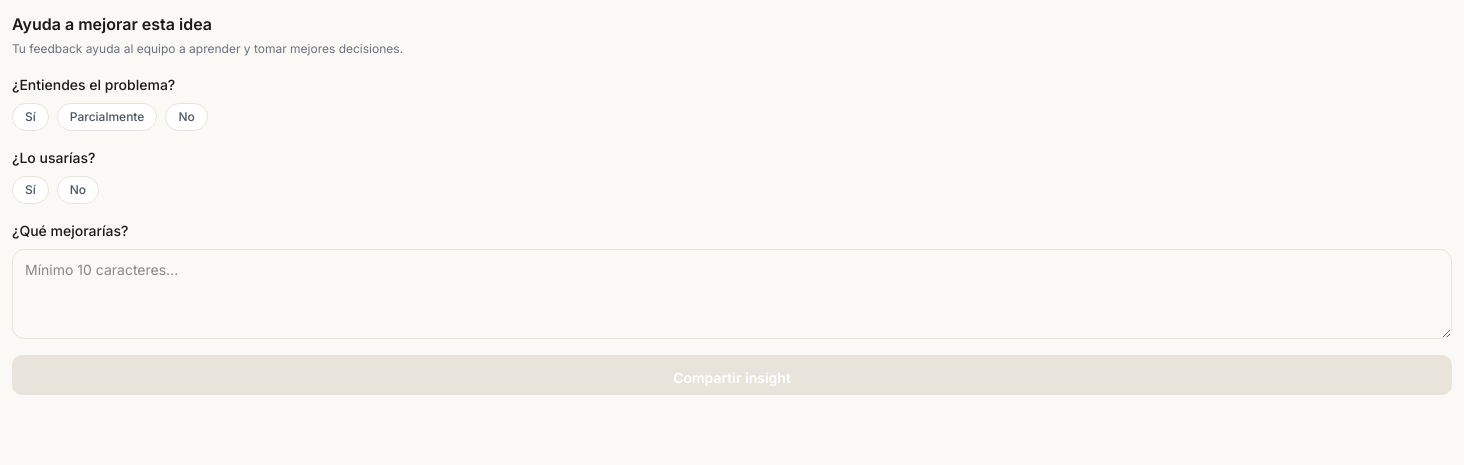
Test: FeedbackFormInline — estado de error › muestra mensaje de error cuando submitFeedback falla
Click the button "Sí" below "¿Entiendes el problema?".
click(30, 117)  # box [12,103,49,131]
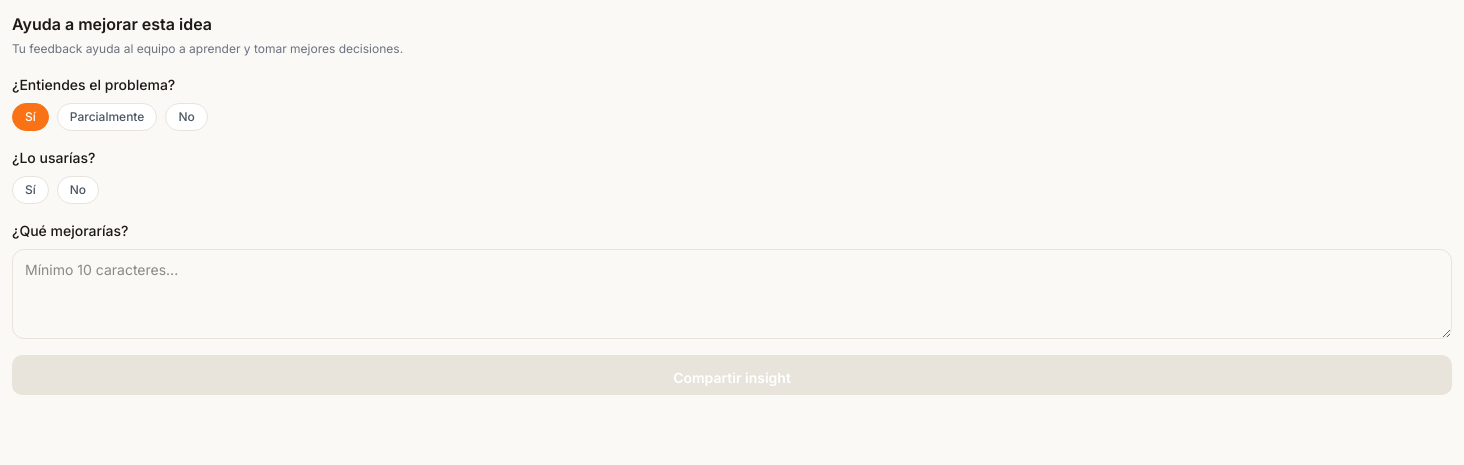
Click the button "Sí" below "¿Lo usarías?".
click(30, 190)  # box [12,176,49,204]
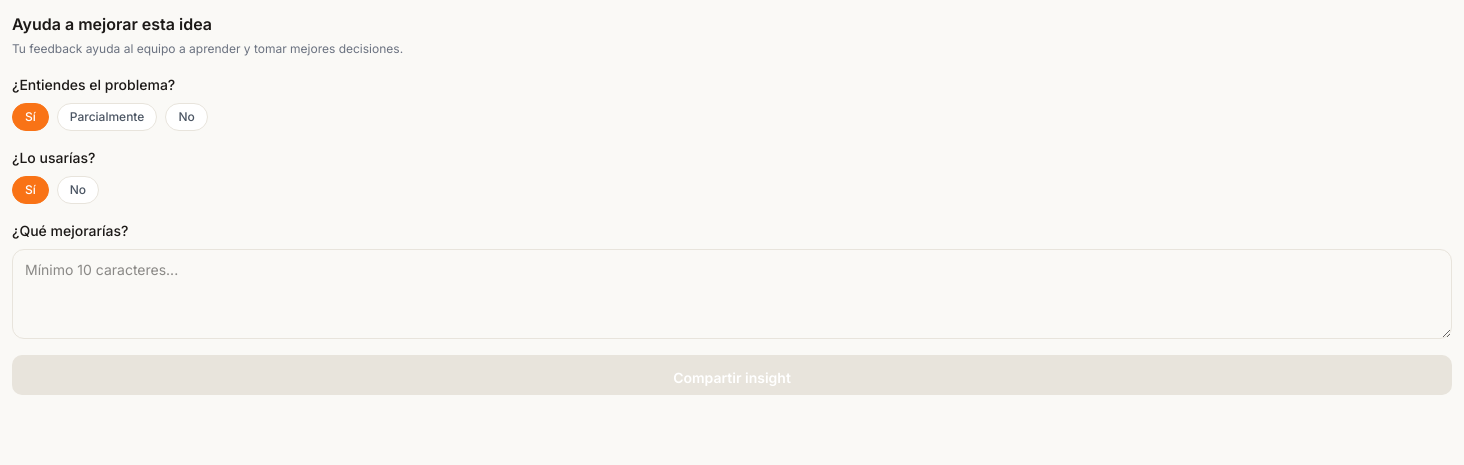
Type "Texto de mejora suficientemente largo" into the text box.
click(732, 294); type("Texto de mejora suficientemente largo")  # box [12,249,1452,339]
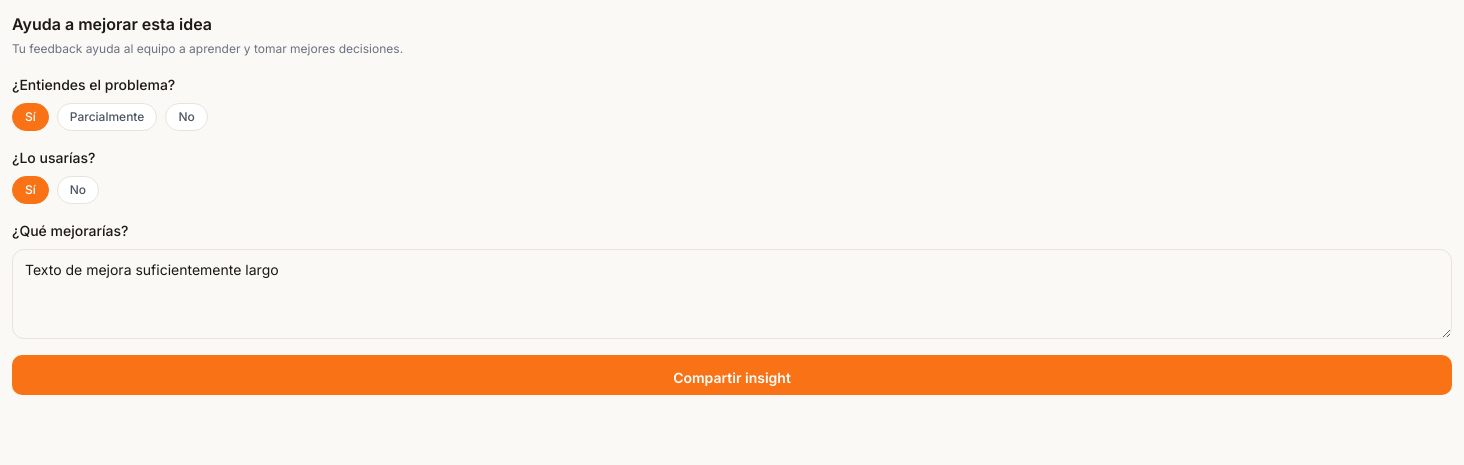
Click the button with test id "feedback-form-inline-submit".
click(732, 375)  # box [12,355,1452,395]
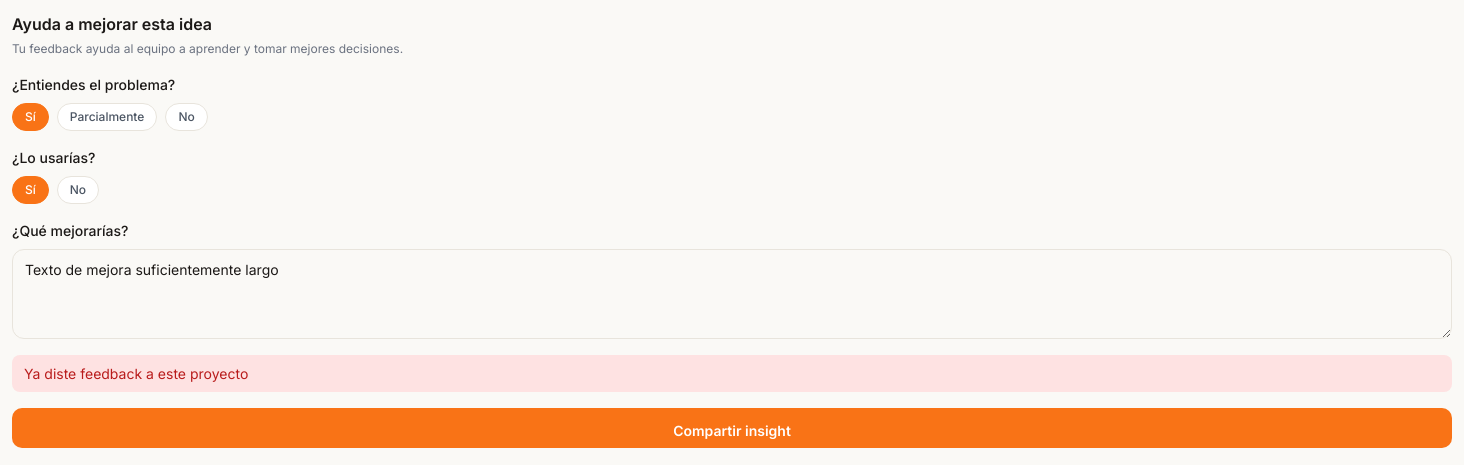
Check: the message reads "Ya diste feedback a este proyecto", box [24,365,248,382]
